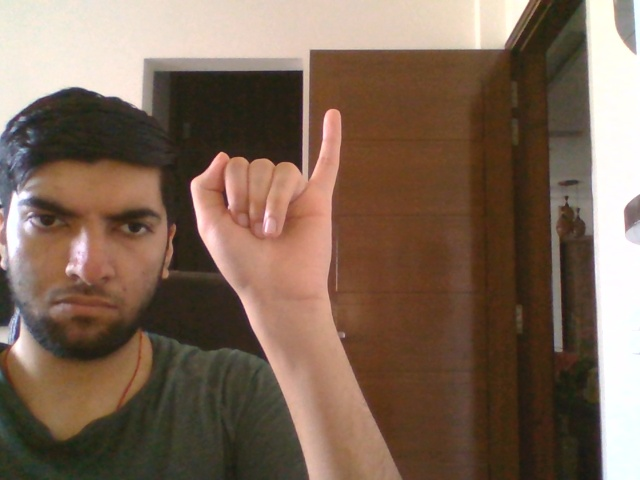LetterI: (189, 108, 342, 307)
